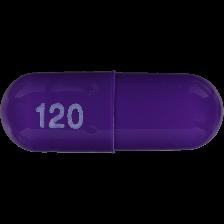68682-367: (0, 0, 224, 224)
